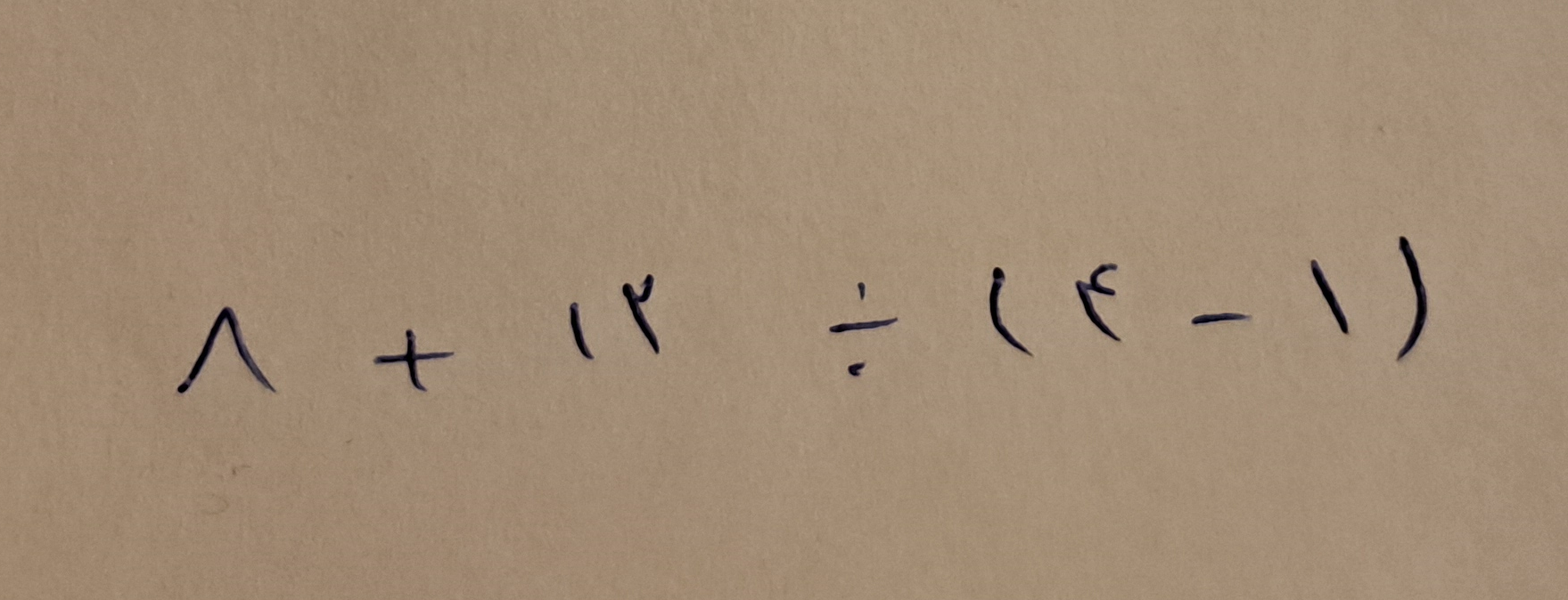character: (174, 306, 275, 393), (829, 281, 896, 376), (374, 328, 454, 391), (1395, 236, 1427, 358), (1072, 266, 1122, 343), (990, 268, 1030, 353), (622, 274, 663, 355), (1312, 261, 1350, 333), (570, 301, 595, 358), (1193, 313, 1248, 330)
